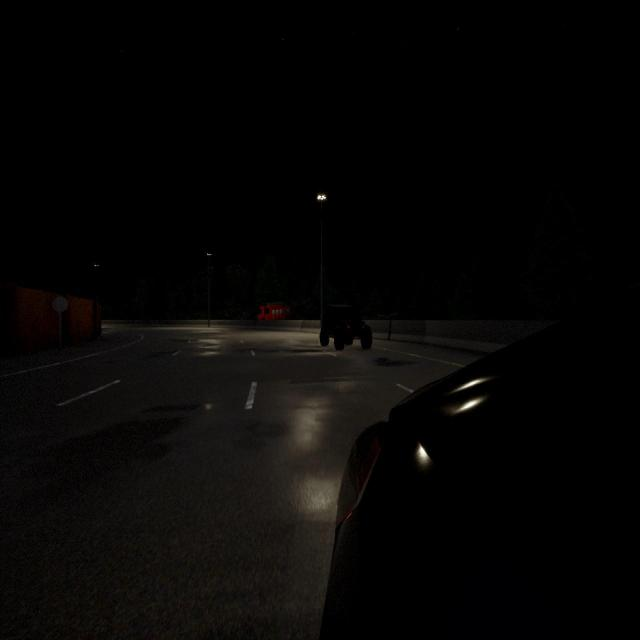Traffic_Signs: (52, 296, 68, 312)
Vehicle: (320, 287, 640, 637), (320, 304, 372, 351), (257, 304, 290, 320)
